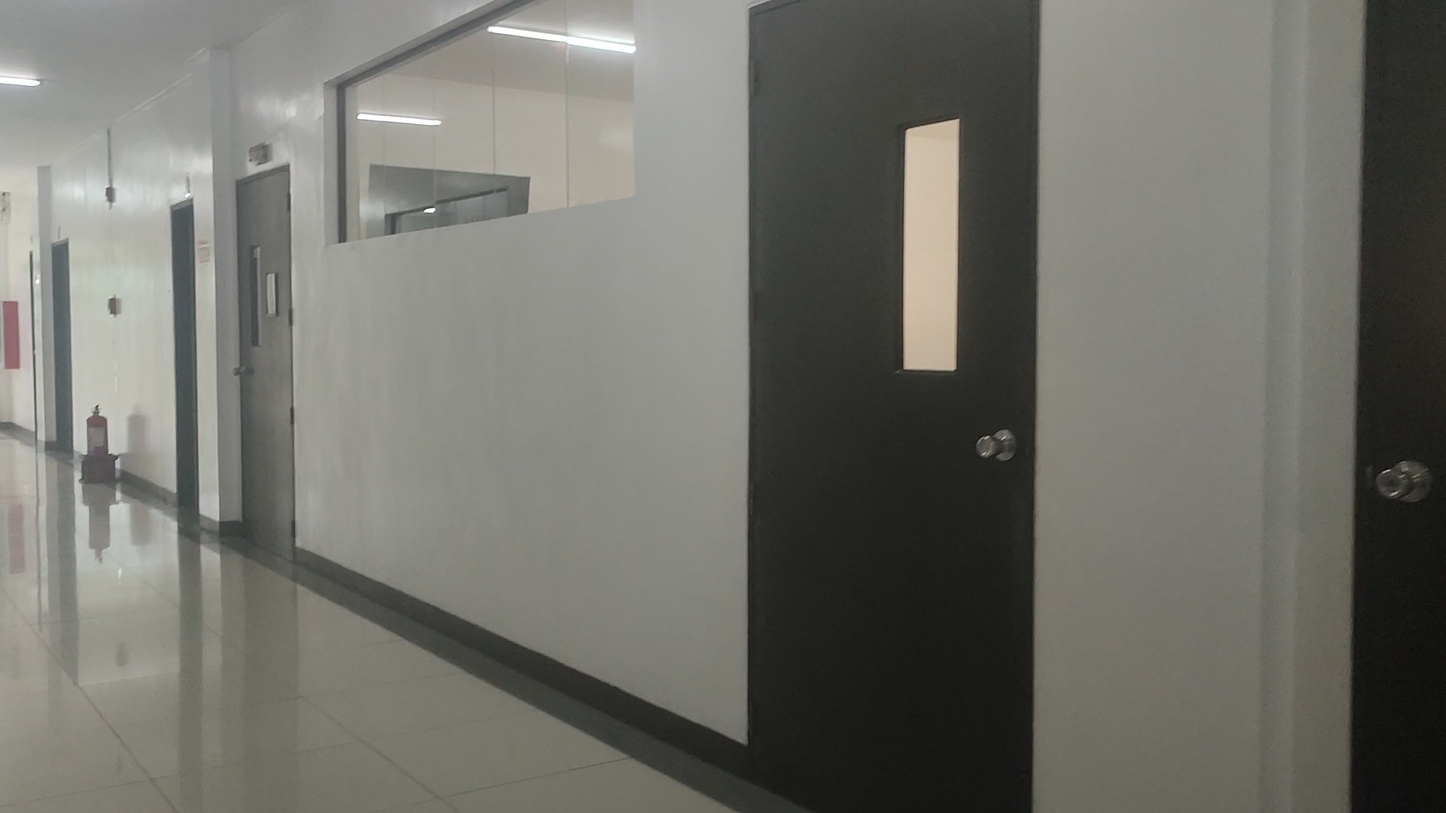door: (743, 0, 1042, 813), (233, 166, 294, 568)
